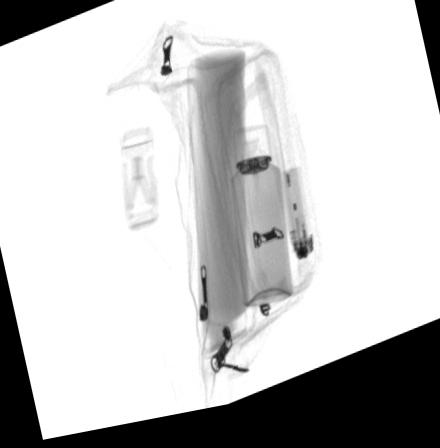Lighter: (279, 176, 313, 275)
Sprayer: (229, 136, 293, 318)
